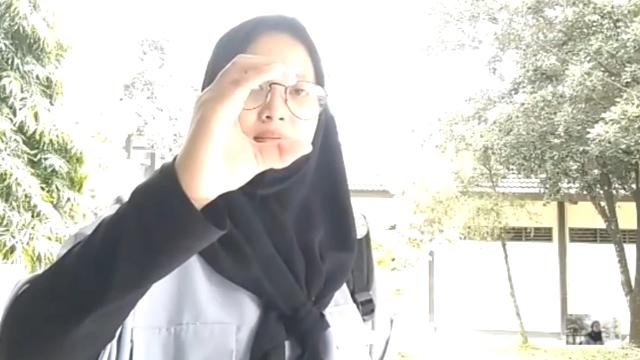C: (180, 53, 314, 186)
